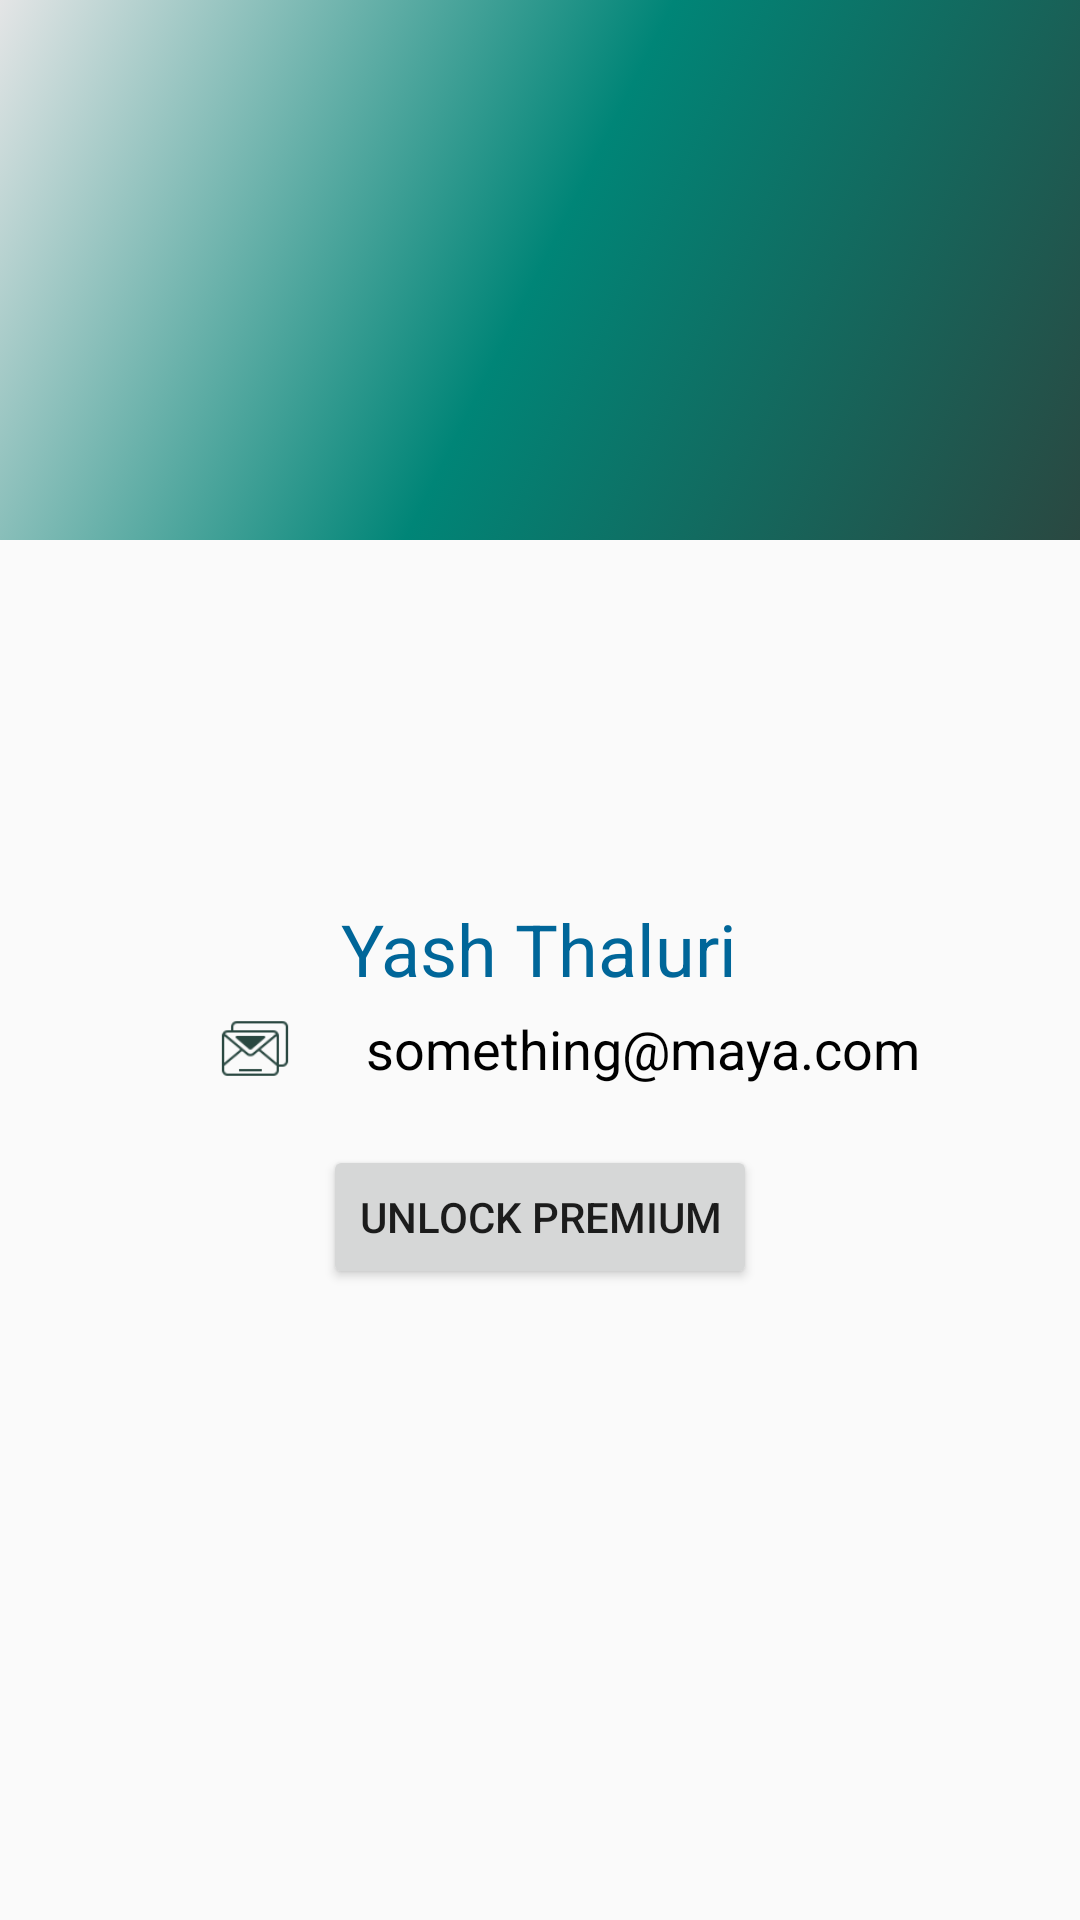

Where icons sit on this 1080px×1920px app screen, as bbox=[x1, y1, x2, y2]:
emailprofile: bbox=[221, 1021, 289, 1076]
